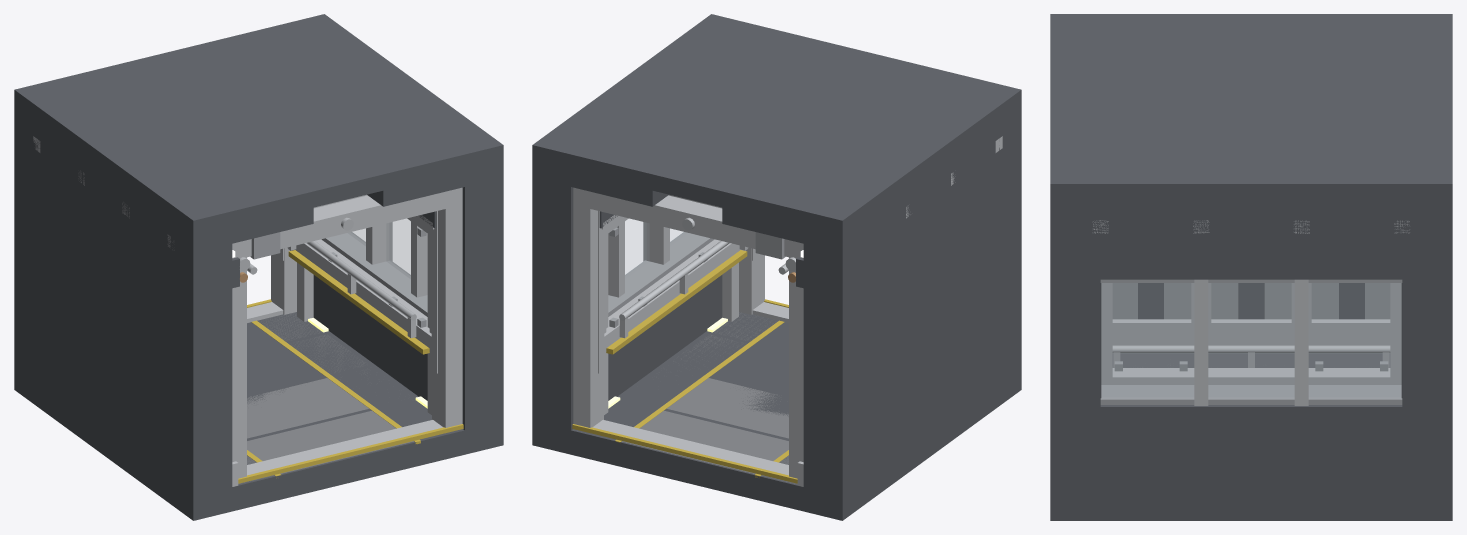
The model's file is corridor_window.glb.
The picture shows the model from 3 angles, left to right: view 1: azimuth 30°, elevation 25°; view 2: azimuth 150°, elevation 25°; view 3: azimuth 270°, elevation 25°; orthographic projection. The views are drawn at different scales.
Visible parts, largest first — view 1: corridor_window; view 2: corridor_window; view 3: corridor_window.
Part boxes in pixels (x1,y1,x2,y2): corridor_window: (14,14,503,520); corridor_window: (532,14,1021,520); corridor_window: (1050,14,1452,520).
Size of the model in its own units: 4 by 3.7 by 4.
